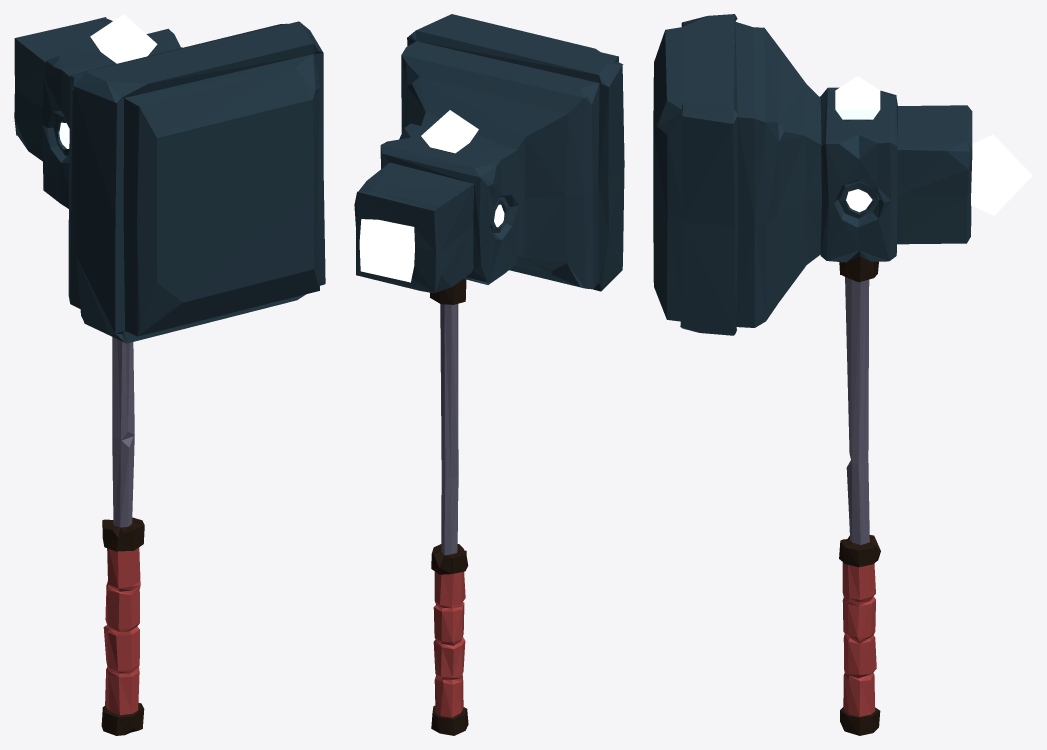
Rendered from SFFA_Weapon_Hammer_Gold_003.fbx.
The picture shows the model from 3 angles, left to right: view 1: azimuth 30°, elevation 25°; view 2: azimuth 150°, elevation 25°; view 3: azimuth 270°, elevation 25°; orthographic projection. The views are drawn at different scales.
Parts seen in each view (by area): view 1: SFFA_Weapon_Hammer_Gold_003; view 2: SFFA_Weapon_Hammer_Gold_003; view 3: SFFA_Weapon_Hammer_Gold_003.
Boxes of the visible parts, x1,y1,x2,y2 form: SFFA_Weapon_Hammer_Gold_003: (14, 14, 325, 735); SFFA_Weapon_Hammer_Gold_003: (354, 14, 624, 735); SFFA_Weapon_Hammer_Gold_003: (653, 14, 1032, 735).
Bounding box in the file's own units: 28.69 × 85.72 × 43.94.
